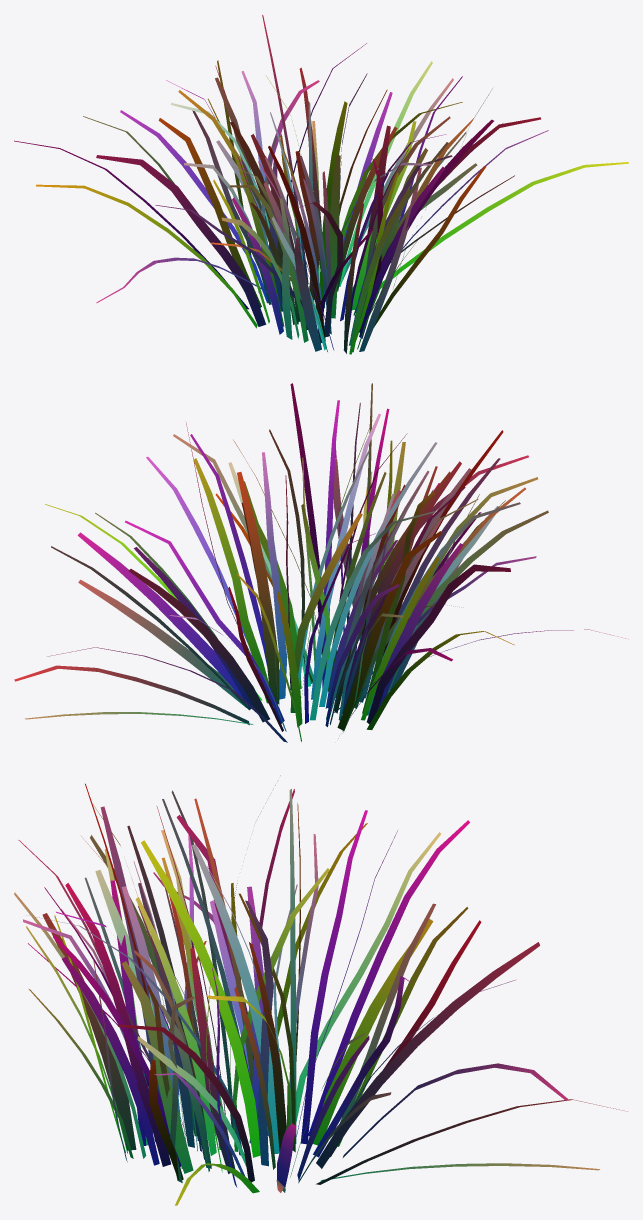
The model's file is Wild_Grass_vlkhcbxia_Mid_vlkhcbxia_VarG_LOD0.fbx.
3 views of the same model, one above another, from view 1: azimuth 30°, elevation 25°; view 2: azimuth 150°, elevation 25°; view 3: azimuth 270°, elevation 25° (orthographic). The views are drawn at different scales.
Parts seen in each view (by area): view 1: _q129_VarG_LOD1; view 2: _q129_VarG_LOD1; view 3: _q129_VarG_LOD1.
Boxes of the visible parts, bbox=[...] form: _q129_VarG_LOD1: bbox=[14, 15, 628, 354]; _q129_VarG_LOD1: bbox=[14, 383, 628, 742]; _q129_VarG_LOD1: bbox=[14, 775, 627, 1205].
Size of the model in its own units: 25.38 by 11.2 by 19.67.
